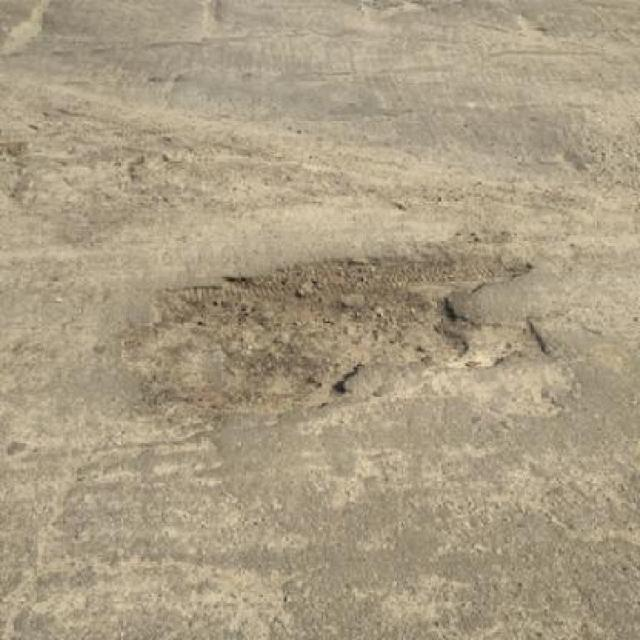pothole: (114, 243, 549, 428)
